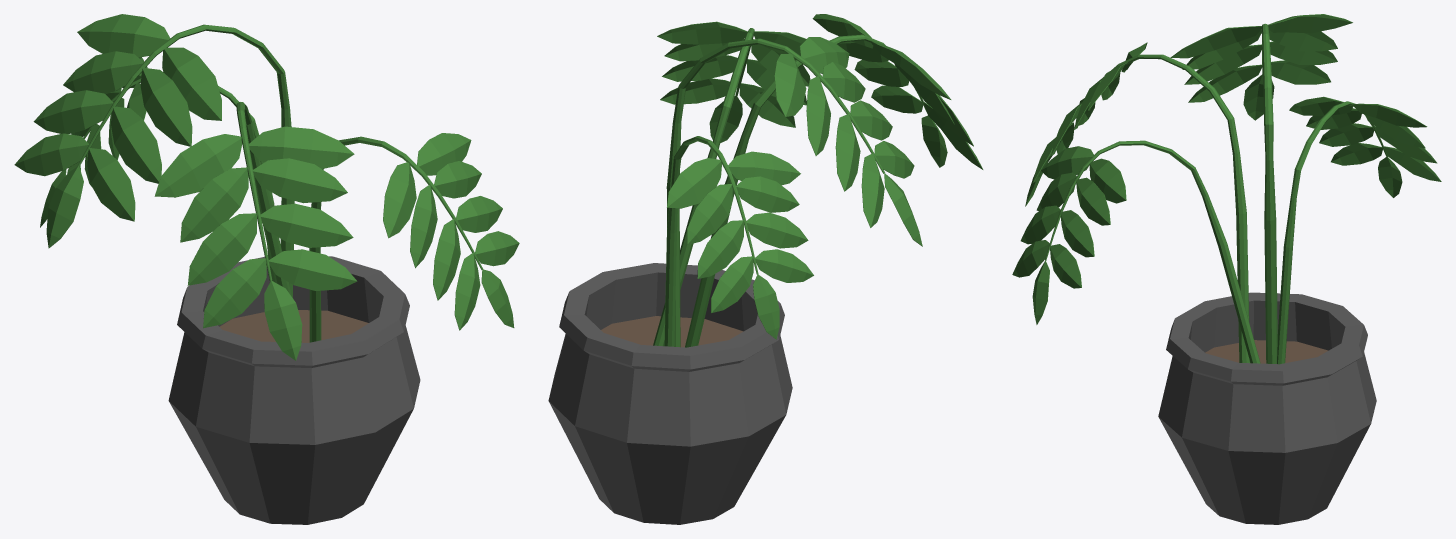
File: Flower_47.fbx
3 views of the same model, side by side, from view 1: azimuth 30°, elevation 25°; view 2: azimuth 150°, elevation 25°; view 3: azimuth 270°, elevation 25° (orthographic). The views are drawn at different scales.
Visible parts, largest first — view 1: Flower_47; view 2: Flower_47; view 3: Flower_47.
Boxes of the visible parts, x1,y1,x2,y2 form: Flower_47: (14,14,519,524); Flower_47: (548,14,983,524); Flower_47: (1012,14,1441,524).
Bounding box in the file's own units: 125 × 145 × 160.
